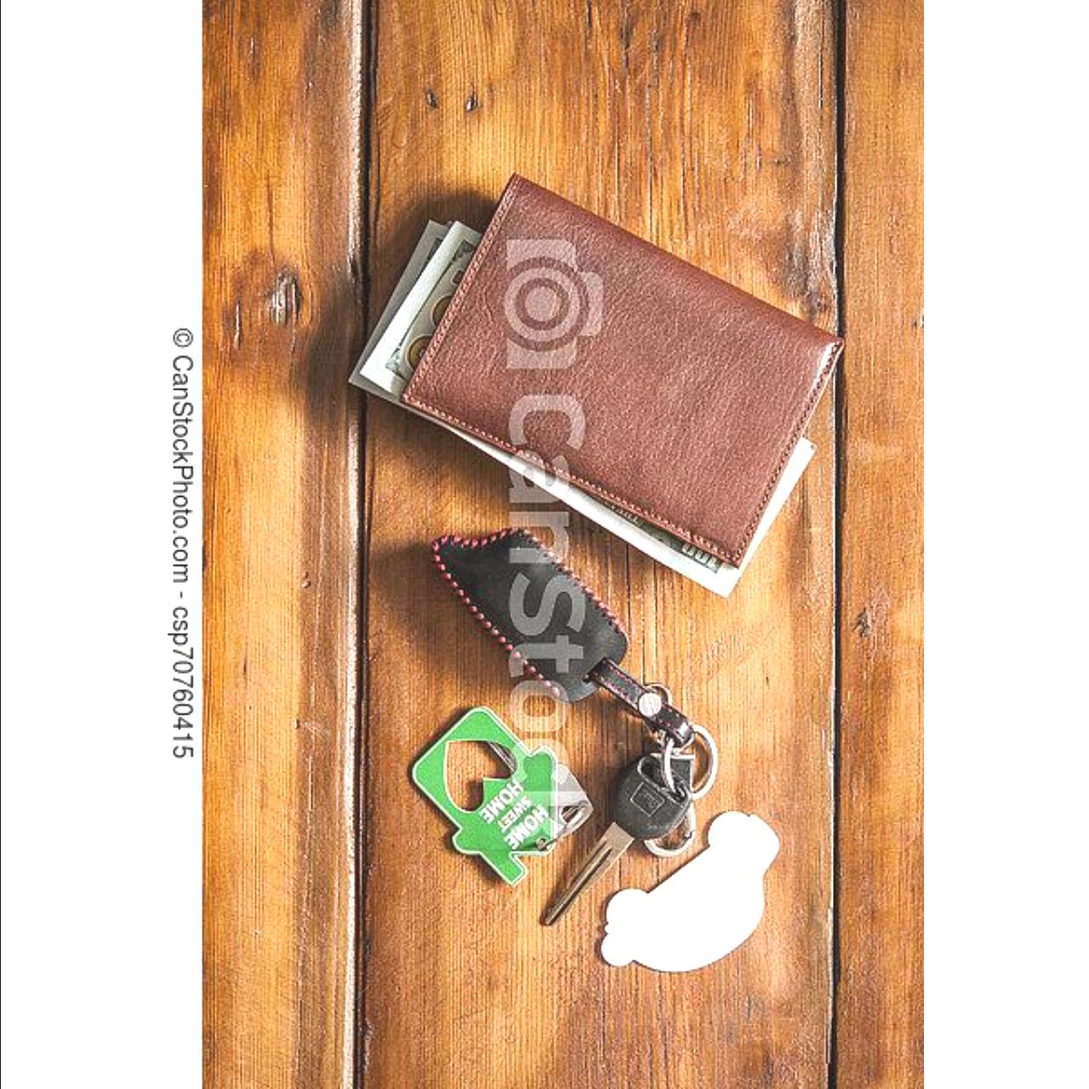wallet: (333, 172, 850, 575)
